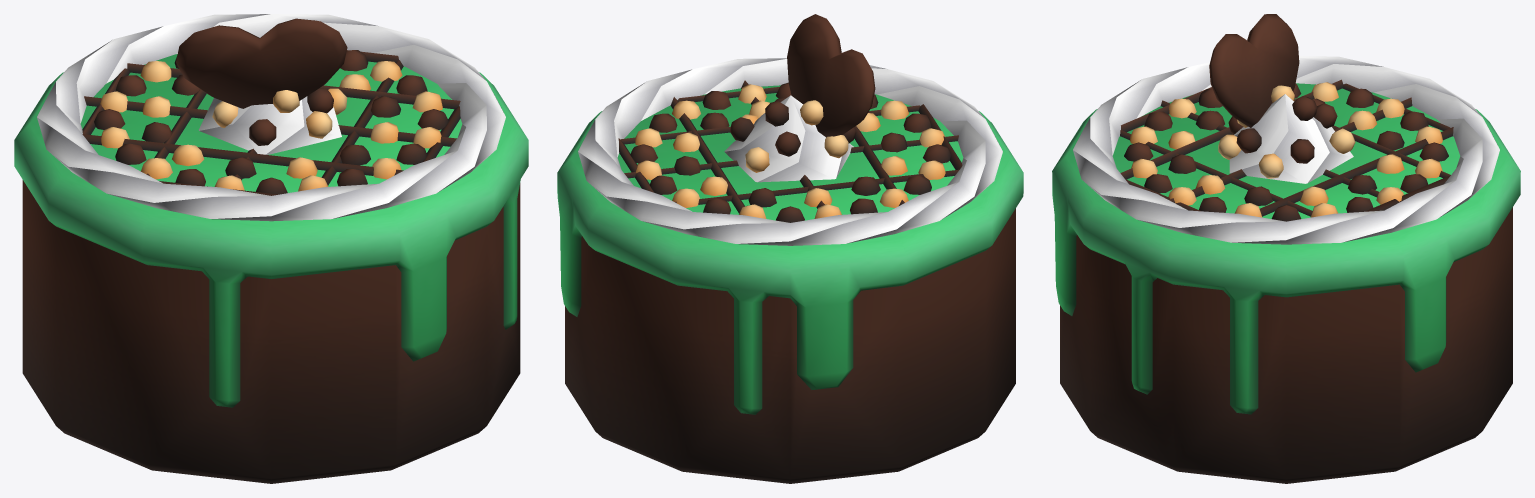
Rendered from m_MintCake01.fbx.
3 renders of one model, left to right at view 1: azimuth 30°, elevation 25°; view 2: azimuth 150°, elevation 25°; view 3: azimuth 270°, elevation 25°, orthographic. The views are drawn at different scales.
Parts seen in each view (by area): view 1: m_MintCake01; view 2: m_MintCake01; view 3: m_MintCake01.
Part boxes in pixels (x1=…): m_MintCake01: x1=14, y1=14, x2=528, y2=483; m_MintCake01: x1=557, y1=14, x2=1023, y2=483; m_MintCake01: x1=1052, y1=14, x2=1520, y2=483.
Bounding box in the file's own units: 26.07 × 21.79 × 26.07.
